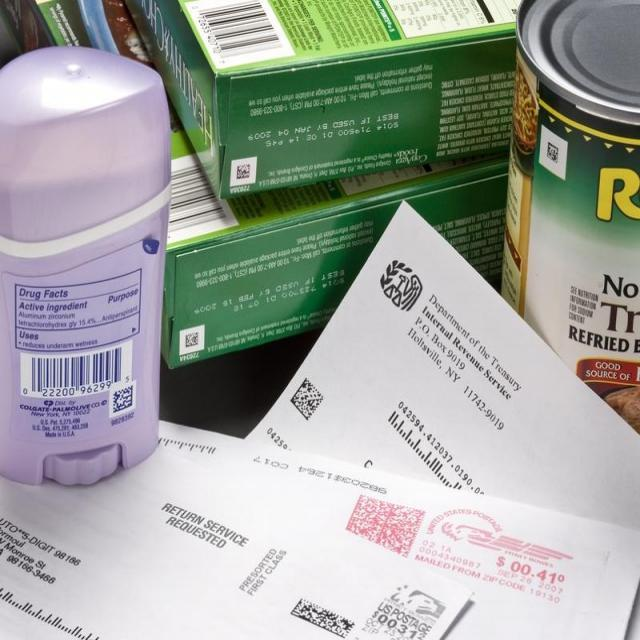Data-Matrix: (280, 369, 329, 426), (542, 134, 564, 174), (111, 384, 136, 413), (232, 156, 257, 185), (180, 324, 202, 353)
